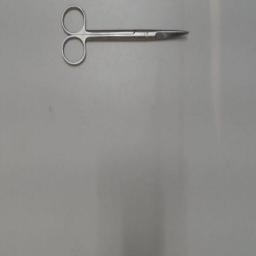Curved Mayo Scissors: (58, 3, 188, 71)
